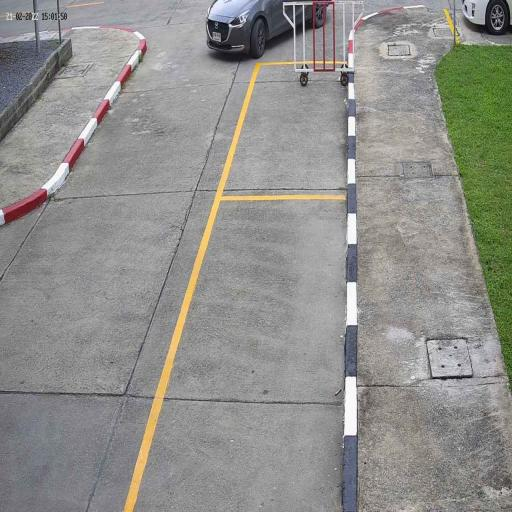car: (205, 0, 330, 58)
